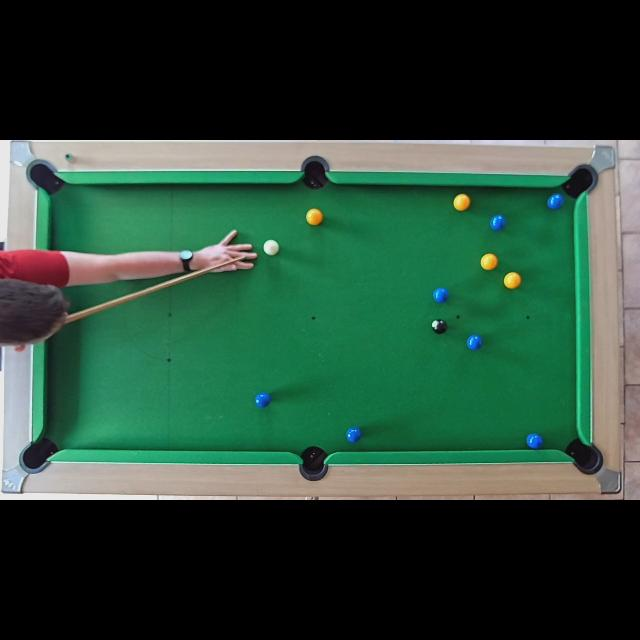Ball: (454, 193, 471, 210), (306, 208, 322, 226), (482, 254, 498, 272), (503, 272, 521, 288), (526, 432, 542, 450), (264, 240, 280, 256), (254, 392, 270, 408), (490, 216, 506, 232), (548, 194, 564, 210), (346, 427, 360, 443), (466, 336, 482, 350), (432, 289, 448, 303), (432, 320, 446, 334)
